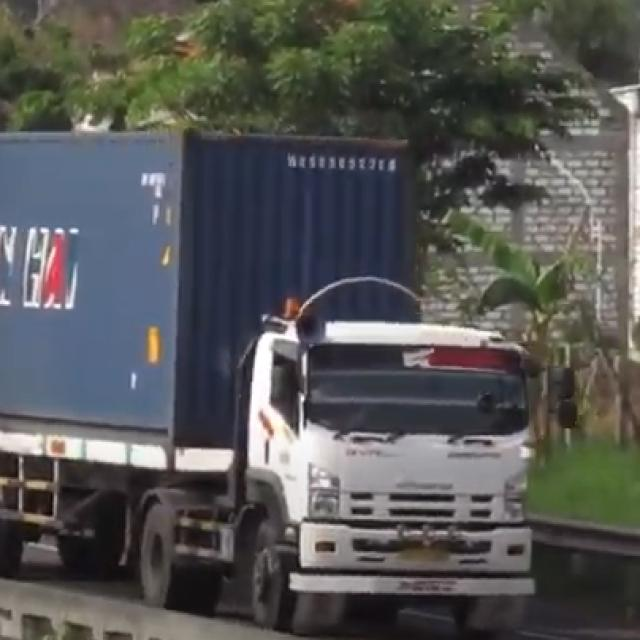truck: (38, 99, 554, 632)
